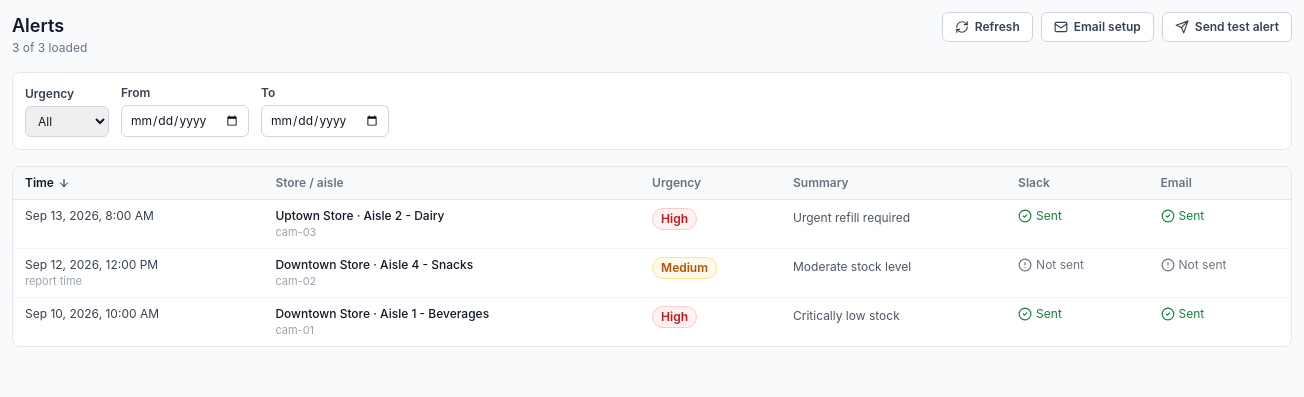
Test: Alerts Page - Sorting & Filtering Logic › shows which channels carried the test alert, including an unconfigured one
Click the button "Send test alert" at (1227, 27), box x1=1162 y1=12 x2=1292 y2=42
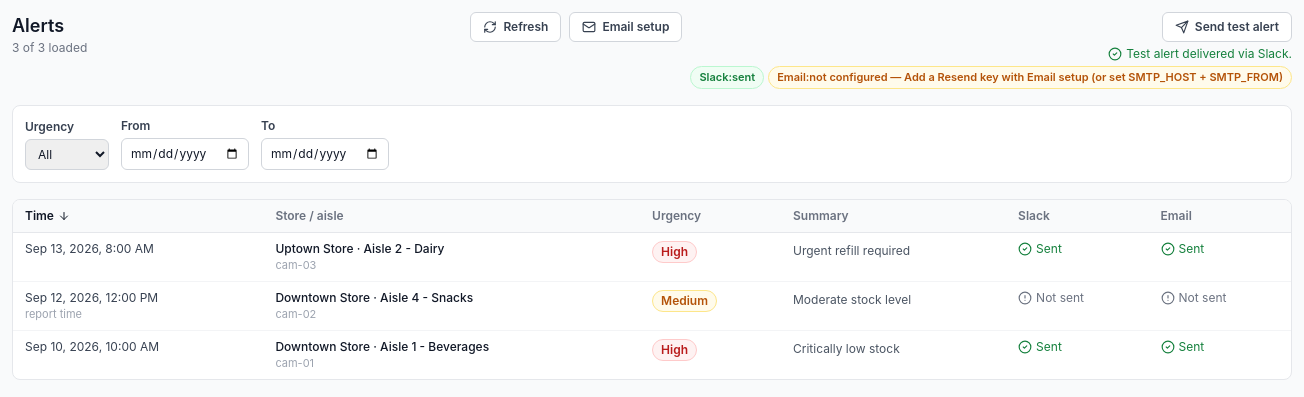
Now the text "Test alert delivered via Slack." is shown, box x1=1108 y1=46 x2=1292 y2=62
